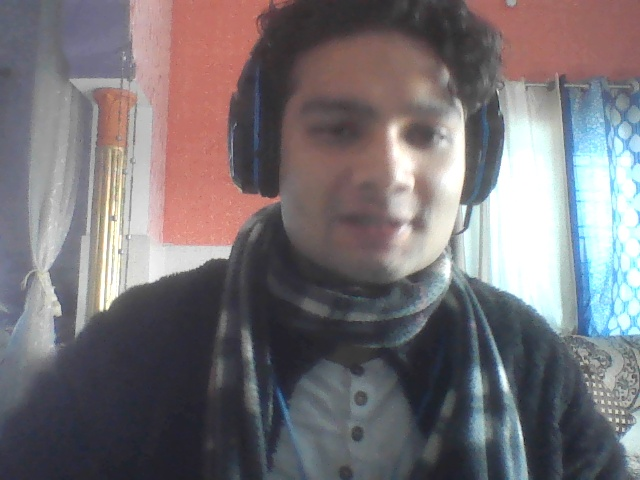real: (239, 0, 488, 353)
